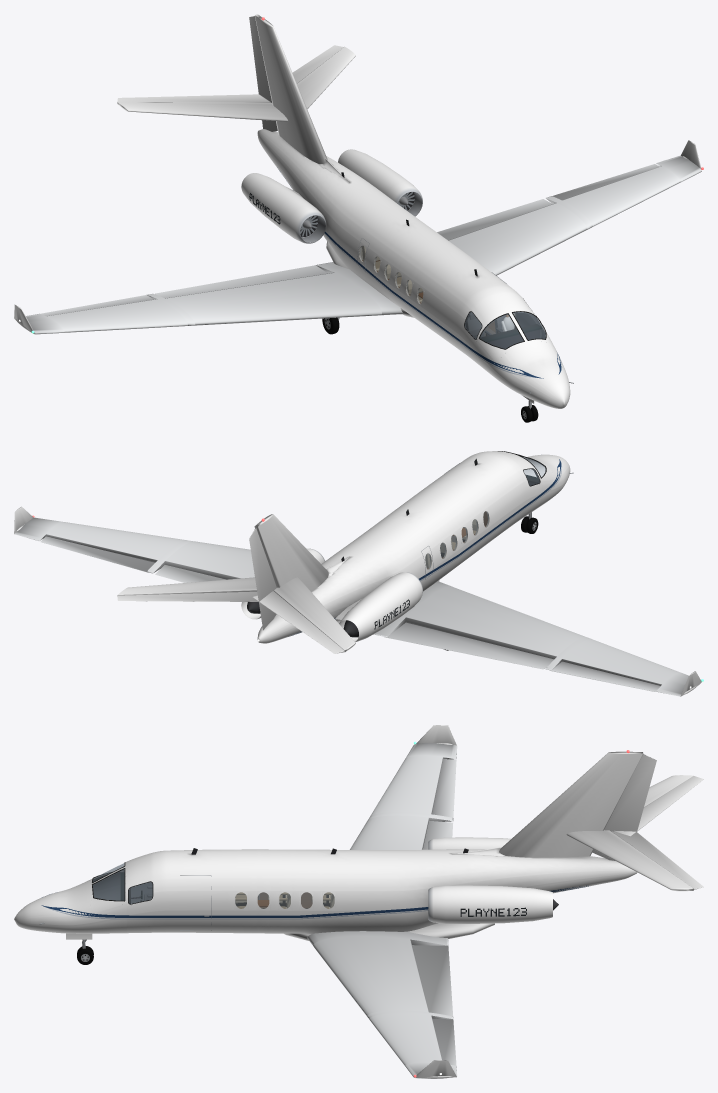
File: latitude.glb
3 views of the same model, one above another, from view 1: azimuth 30°, elevation 25°; view 2: azimuth 150°, elevation 25°; view 3: azimuth 270°, elevation 25° (orthographic).
Parts seen in each view (by area): view 1: body, canopy, flapR, flapL, elevR, rudder, ailL; view 2: body, flapR, elevR, rudder, elevL, ailL, ailR, canopy, flapL; view 3: body, flapL, canopy, rudder, ailR, elevL, elevR, ailL.
Boxes of the visible parts, x1,y1,x2,y2 form: body: (14,14,703,408); canopy: (359,246,545,348); flapR: (155,265,327,298); flapL: (437,199,552,240); elevR: (117,94,270,103); rudder: (249,16,277,131); ailL: (552,164,659,200); body: (14,451,703,696); flapR: (384,622,553,669); elevR: (253,591,344,653); rudder: (249,528,276,630); elevL: (117,591,258,601); ailL: (40,536,154,572); ailR: (549,661,660,691); canopy: (425,457,545,569); flapL: (155,565,225,582); body: (14,725,693,1078); flapL: (412,945,452,1016); canopy: (93,863,334,908); rudder: (592,754,656,860); ailR: (432,758,456,817); elevL: (612,831,703,889); elevR: (614,776,703,836); ailL: (432,1018,456,1065).
Bounding box in the file's own units: 21.68 × 6.42 × 18.83.
